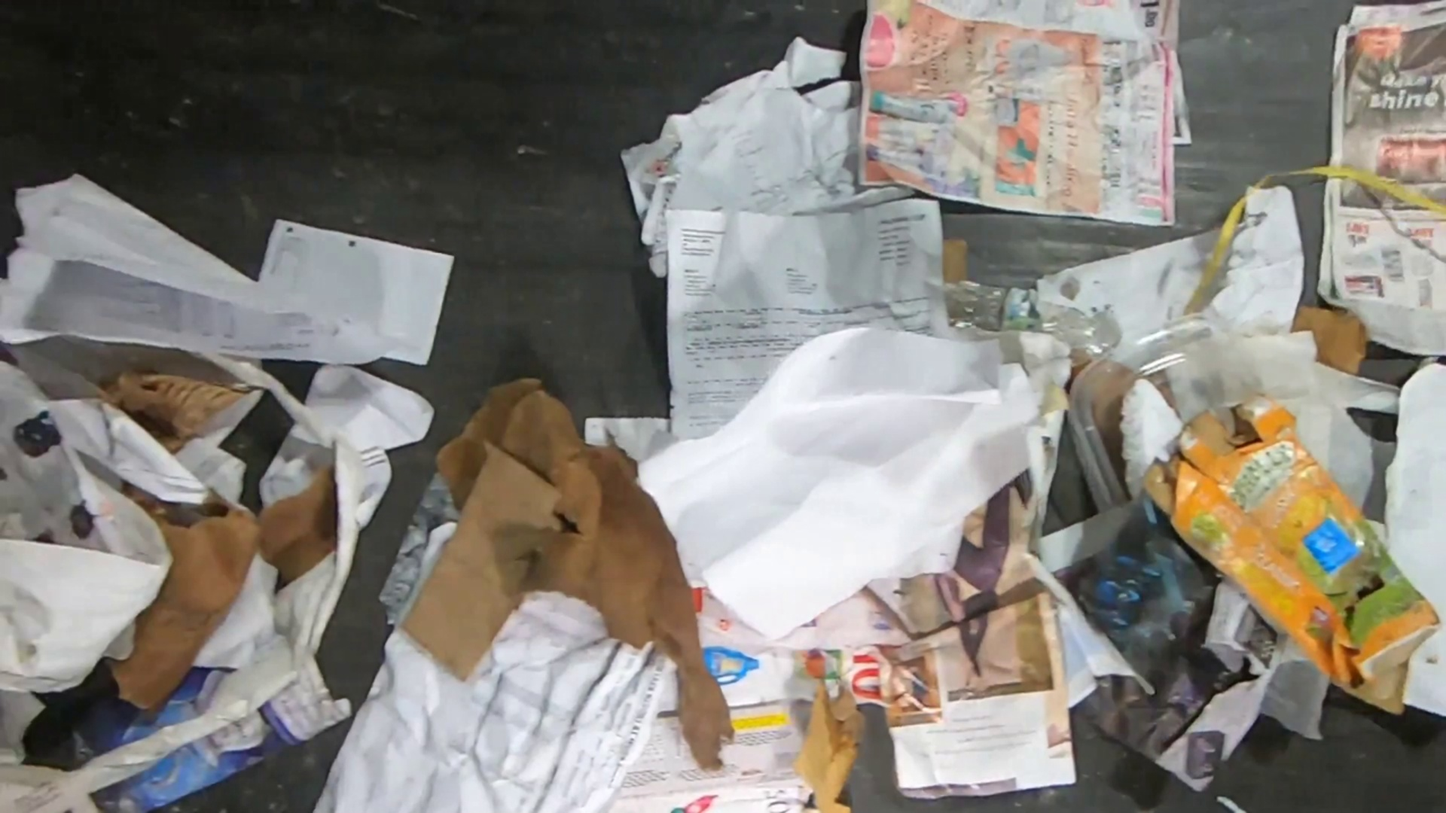cardboard: (1144, 395, 1440, 711), (402, 443, 564, 679), (98, 368, 243, 453), (796, 681, 868, 813), (1290, 304, 1367, 376), (943, 237, 969, 282)
plastic: (1067, 312, 1247, 514), (1079, 521, 1224, 762), (944, 279, 1125, 365)
